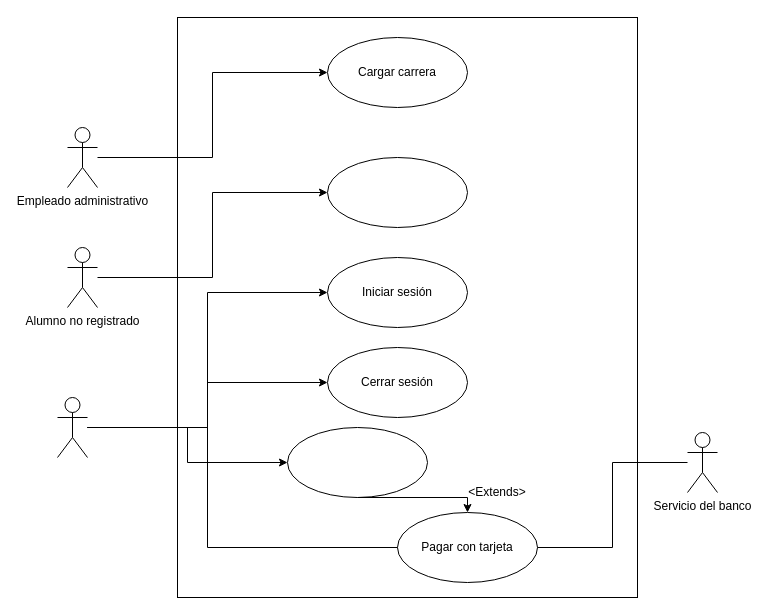
This 769x615 diagram has some shape labels left out. The box of each missing label's shape, as (x1, y1, x2, y2) in pixels:
Alumno registrado: (56, 396, 88, 458)
Inscribirse a carrera: (286, 426, 428, 498)
Realizar registro: (326, 156, 468, 228)
